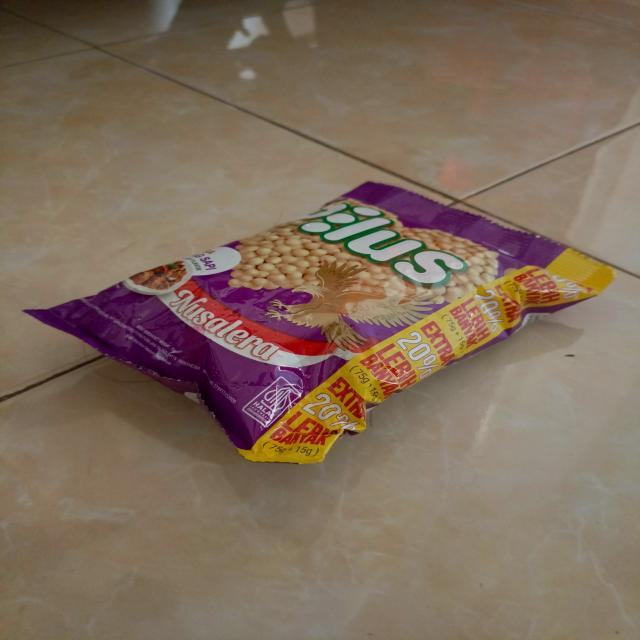pilus-rendang: (20, 181, 615, 465)
